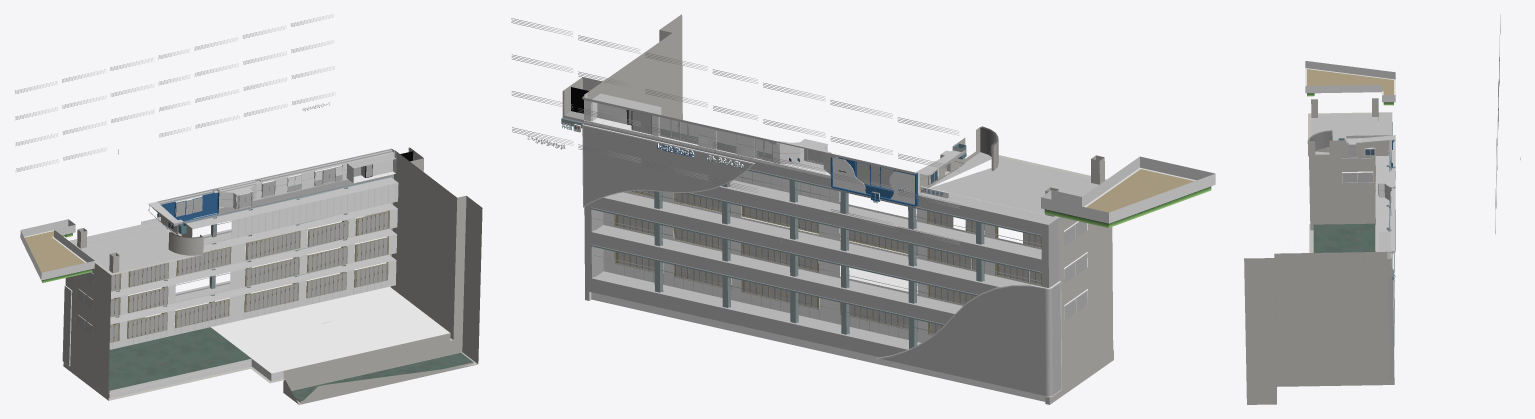
The model's file is 광안리관광소.fbx.
3 renders of one model, left to right at view 1: azimuth 30°, elevation 25°; view 2: azimuth 150°, elevation 25°; view 3: azimuth 270°, elevation 25°, orthographic. The views are drawn at different scales.
Parts seen in each view (by area): view 1: Group_74864, Group_75582, Group_75516; view 2: Group_74864, Group_75516, Group_75582, Group_74866, Group_72862, Group_72928, Group_75586, Group_75584; view 3: Group_74864, Group_75582, Group_75586, Group_73761.
Part boxes in pixels (box(x1,y1,x2,y2)): Group_74864: box(63, 148, 482, 404); Group_75582: box(20, 219, 94, 280); Group_75516: box(62, 211, 387, 366); Group_74864: box(582, 14, 1113, 404); Group_75516: box(582, 124, 1061, 397); Group_75582: box(1041, 156, 1215, 223); Group_74866: box(591, 292, 1045, 401); Group_72862: box(832, 157, 914, 204); Group_72928: box(591, 101, 651, 134); Group_75586: box(562, 77, 602, 122); Group_75584: box(1044, 186, 1211, 227); Group_74864: box(1244, 112, 1395, 404); Group_75582: box(1305, 61, 1395, 102); Group_75586: box(1364, 254, 1391, 277); Group_73761: box(1342, 172, 1373, 182).
Size of the model in its own units: 2640 by 1564 by 1624.
